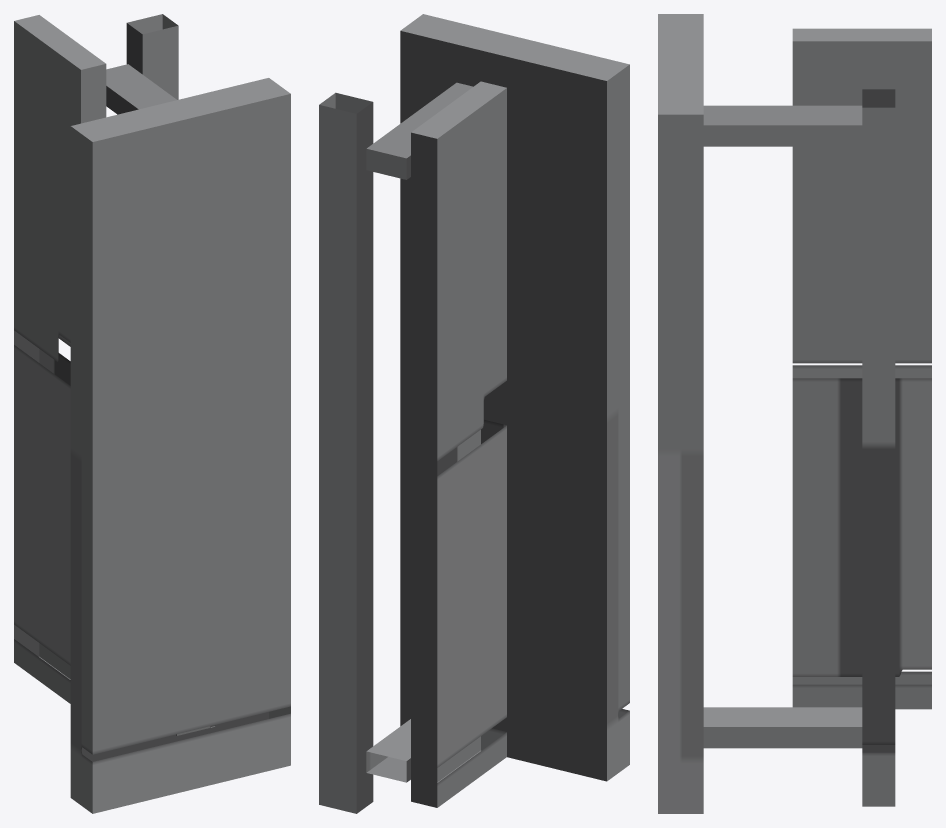
The picture shows the model from 3 angles, left to right: view 1: azimuth 30°, elevation 25°; view 2: azimuth 150°, elevation 25°; view 3: azimuth 270°, elevation 25°; orthographic projection. The views are drawn at different scales.
Bounding box in the file's own units: 0.2311 × 0.7617 × 0.2658.
